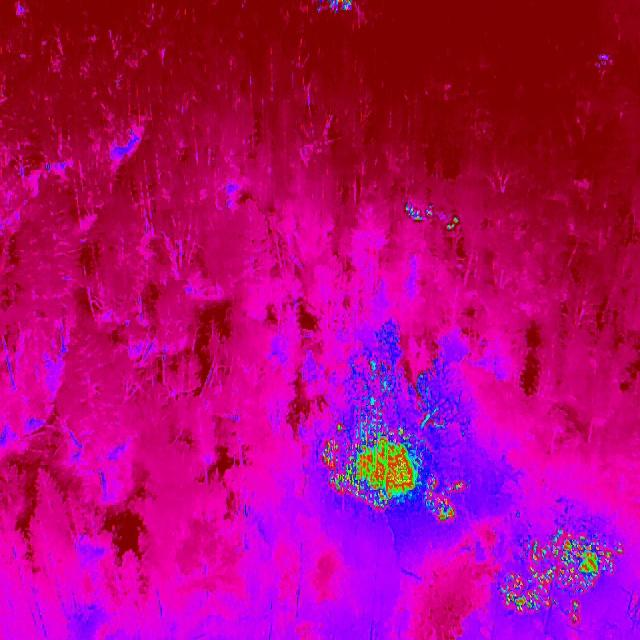fire: (320, 371, 472, 541), (496, 520, 632, 628), (394, 202, 466, 240), (312, 0, 357, 15), (596, 50, 612, 70)
